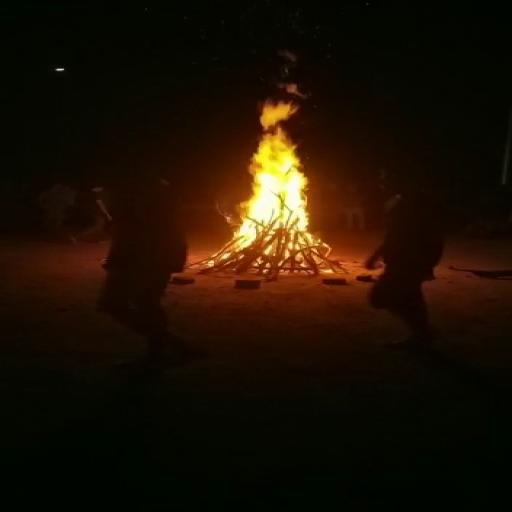fire: (212, 70, 345, 274)
